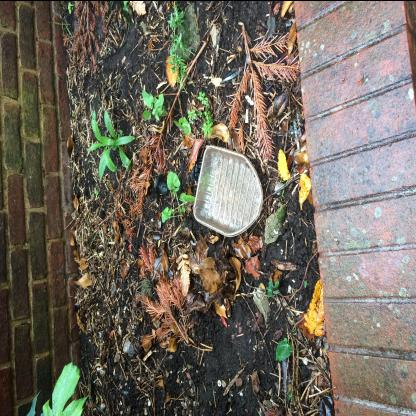plastik: (193, 144, 264, 236)
